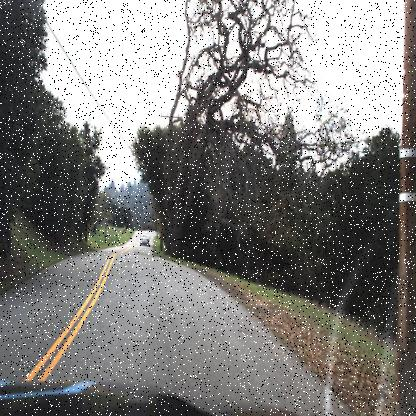car: (137, 230, 151, 247)
